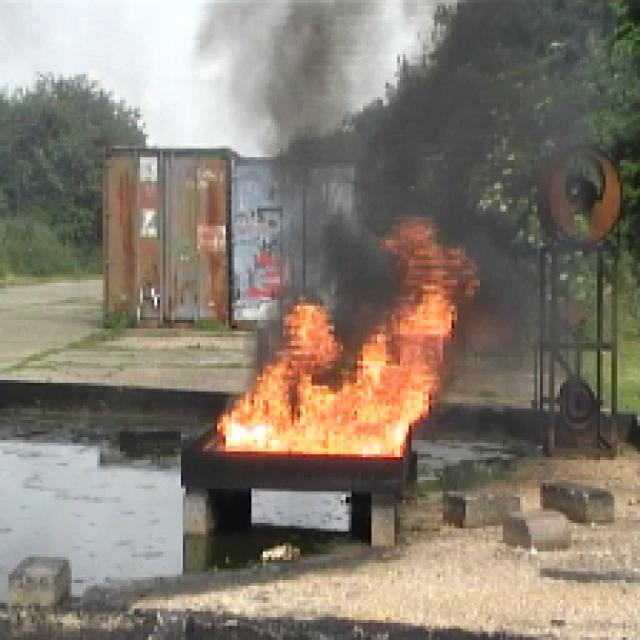fire: (237, 320, 424, 450)
